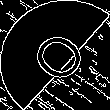O_SE: (19, 22, 91, 88)
